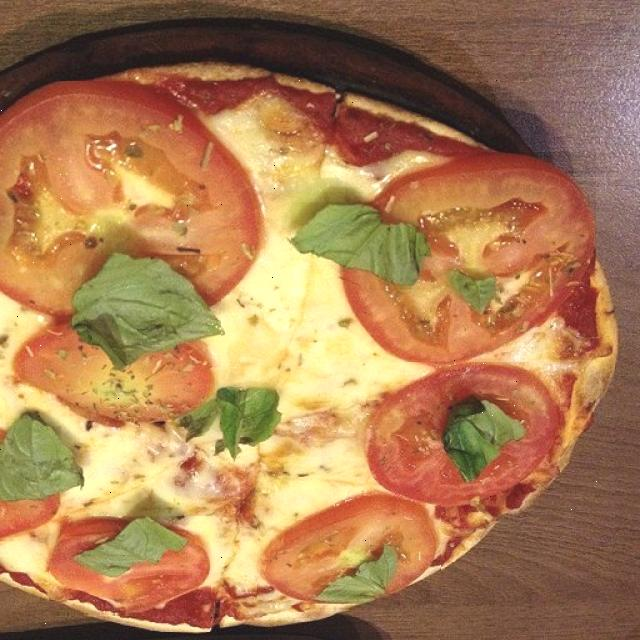basil: (68, 255, 220, 367), (291, 202, 431, 287), (174, 382, 282, 458), (442, 397, 530, 484), (76, 517, 188, 580), (316, 545, 400, 609), (447, 268, 495, 319)
pizza: (0, 60, 615, 631)
tomato: (0, 81, 264, 321), (345, 150, 596, 358), (366, 362, 560, 502), (14, 318, 218, 426), (257, 493, 441, 606), (49, 516, 211, 614), (51, 518, 204, 612), (0, 426, 61, 539)
